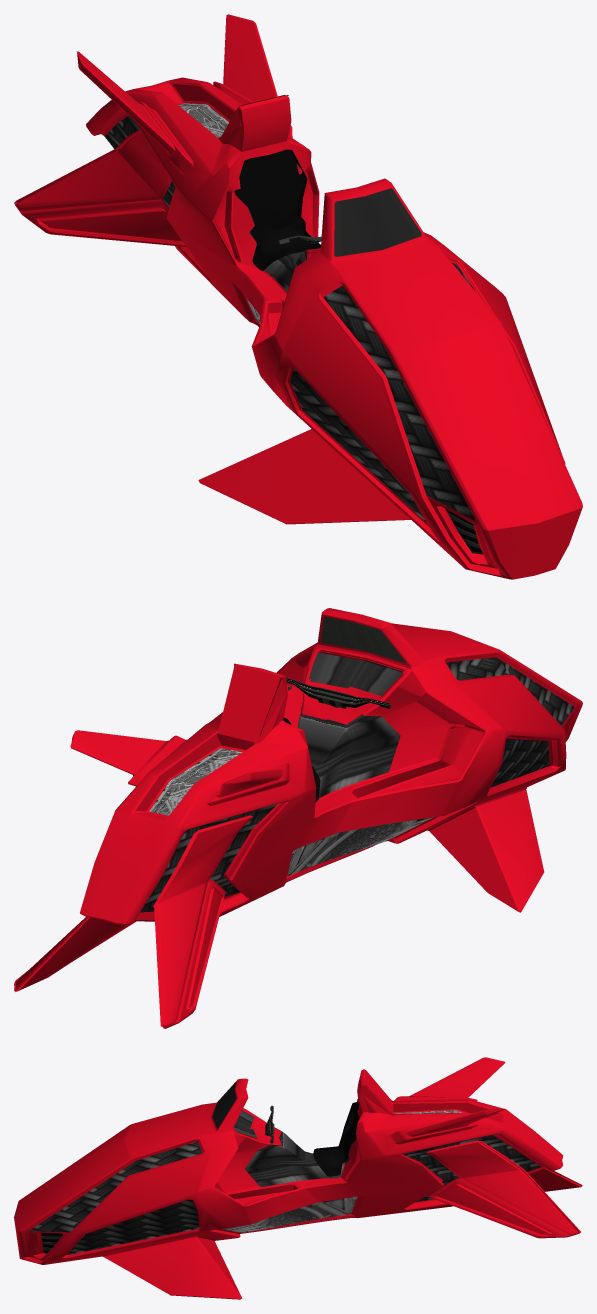
Rendered from FastRacer.fbx.
The picture shows the model from 3 angles, top to bottom: view 1: azimuth 30°, elevation 25°; view 2: azimuth 150°, elevation 25°; view 3: azimuth 270°, elevation 25°; orthographic projection. The views are drawn at different scales.
Visible parts, largest first — view 1: hover_bike_1_Cube.002; view 2: hover_bike_1_Cube.002; view 3: hover_bike_1_Cube.002.
Part boxes in pixels (x1,y1,x2,y2): hover_bike_1_Cube.002: [14, 14, 582, 579]; hover_bike_1_Cube.002: [14, 608, 582, 1028]; hover_bike_1_Cube.002: [14, 1057, 582, 1299].
Size of the model in its own units: 261 by 217 by 624.
8 materials, 7 textured.
